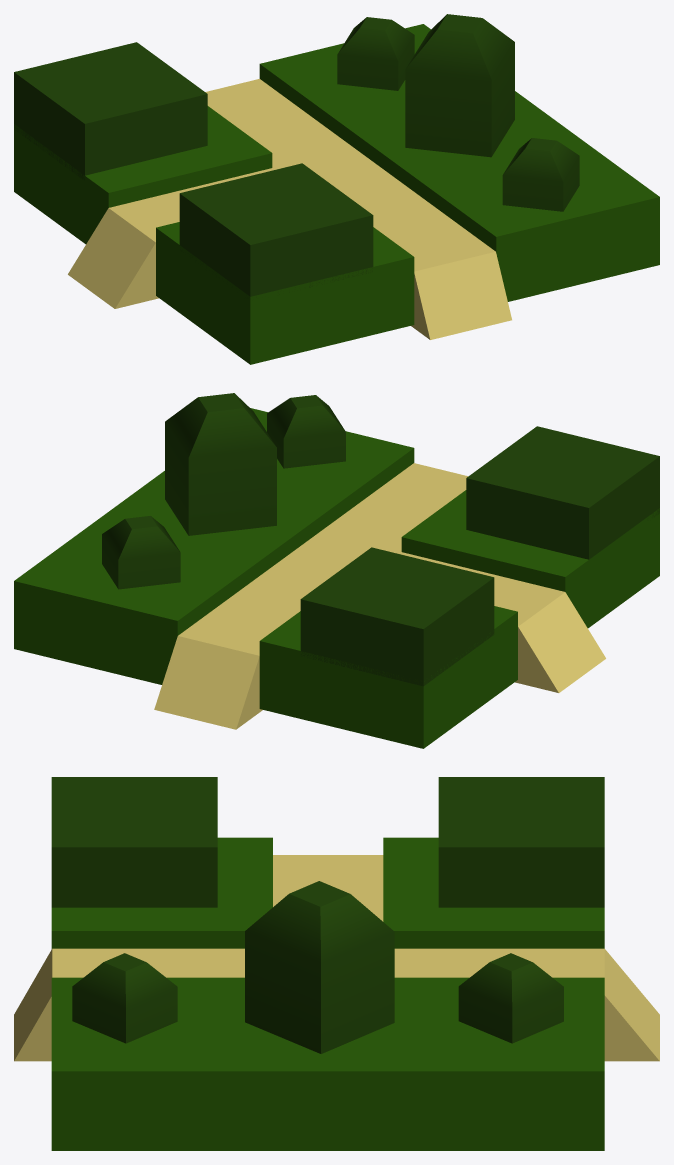
The model's file is garden_threeway.fbx.
The picture shows the model from 3 angles, top to bottom: view 1: azimuth 30°, elevation 25°; view 2: azimuth 150°, elevation 25°; view 3: azimuth 270°, elevation 25°; orthographic projection. The views are drawn at different scales.
Parts seen in each view (by area): view 1: polySurface575; view 2: polySurface575; view 3: polySurface575.
Boxes of the visible parts, bbox=[...] form: polySurface575: bbox=[14, 14, 659, 364]; polySurface575: bbox=[14, 393, 659, 748]; polySurface575: bbox=[14, 777, 659, 1150].
Size of the model in its own units: 110 by 42.37 by 117.
1 material, 1 textured.
